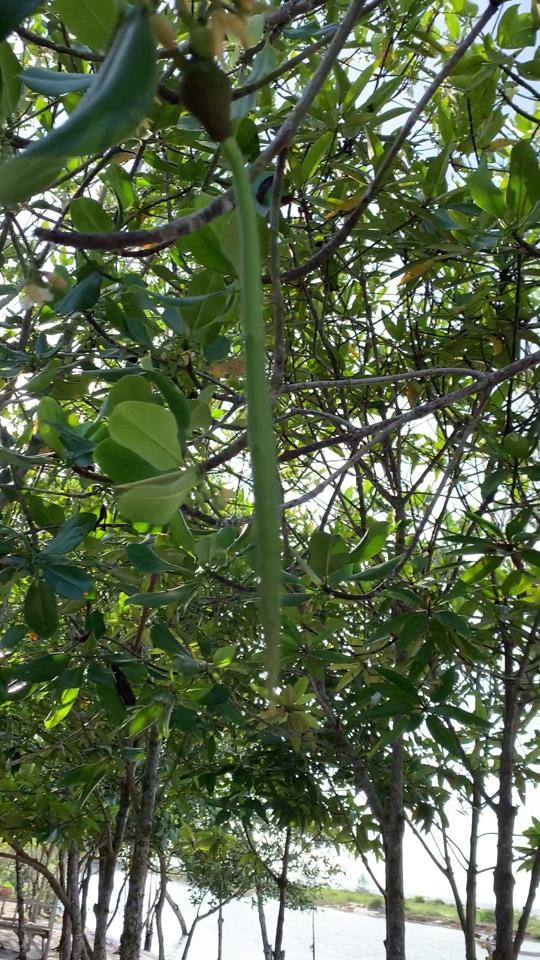mentah: (164, 41, 296, 722)
